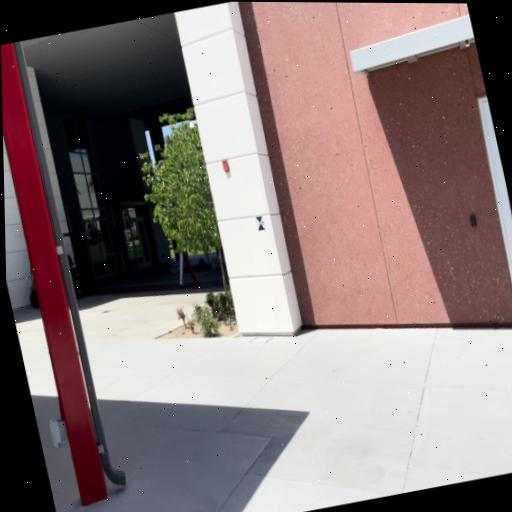target9: (256, 216, 265, 231)
